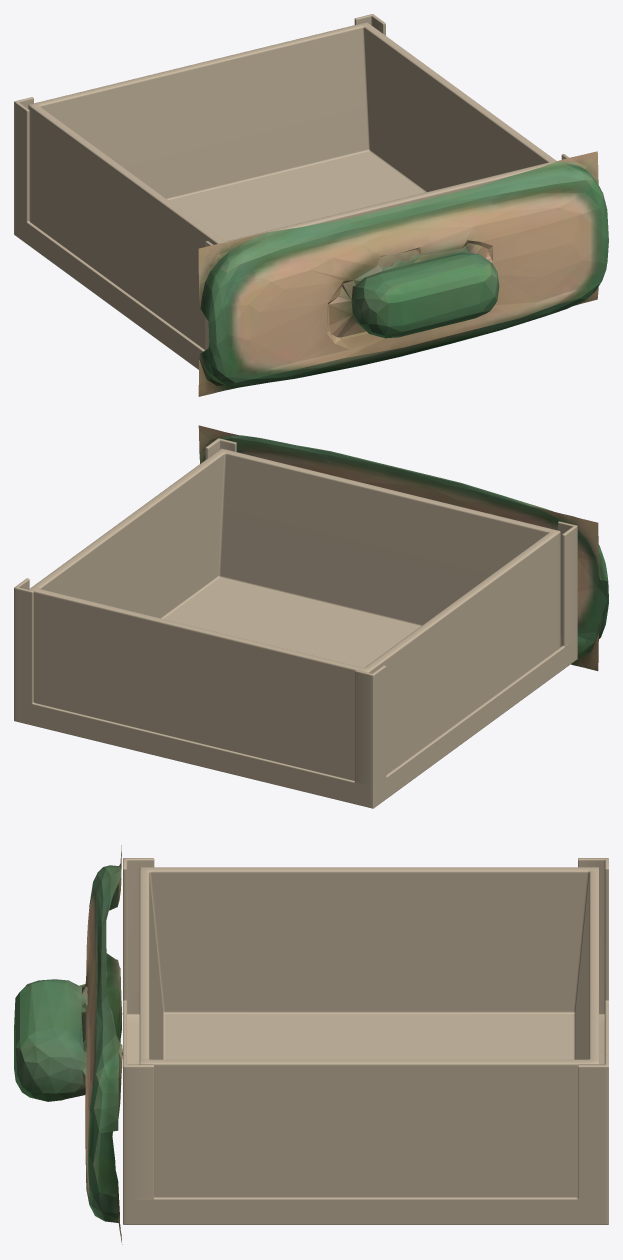
File: drawer_right.glb
3 views of the same model, one above another, from view 1: azimuth 30°, elevation 25°; view 2: azimuth 150°, elevation 25°; view 3: azimuth 270°, elevation 25° (orthographic). The views are drawn at different scales.
Visible parts, largest first — view 1: prefab_drawer_body_2, source_front_cap_0; view 2: prefab_drawer_body_2, source_front_cap_0; view 3: prefab_drawer_body_2, source_front_cap_0.
Part boxes in pixels (x1,y1,x2,y2): prefab_drawer_body_2: (14,14,569,369); source_front_cap_0: (198,151,608,396); prefab_drawer_body_2: (14,438,577,808); source_front_cap_0: (198,425,608,670); prefab_drawer_body_2: (123,858,608,1224); source_front_cap_0: (14,845,122,1244).
Size of the model in its own units: 0.2364 by 0.084 by 0.2566.
2 materials, 1 textured.
